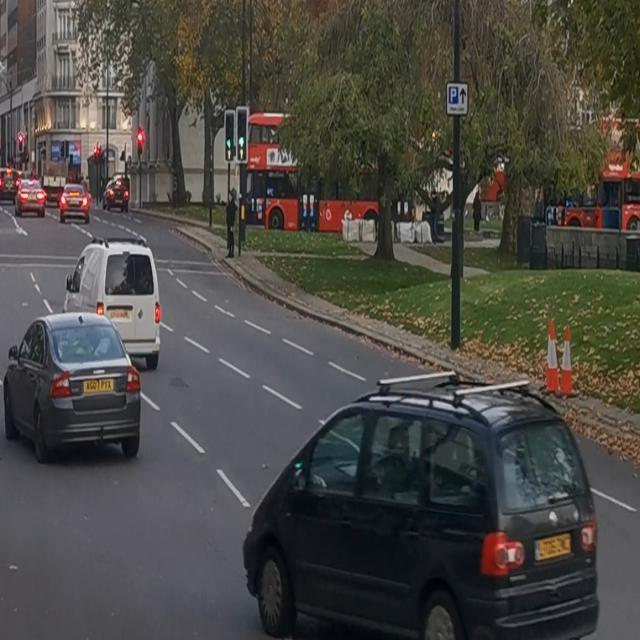Vehicle: (244, 386, 604, 640), (0, 308, 142, 470), (64, 237, 162, 373), (59, 183, 89, 225), (15, 180, 48, 218)
